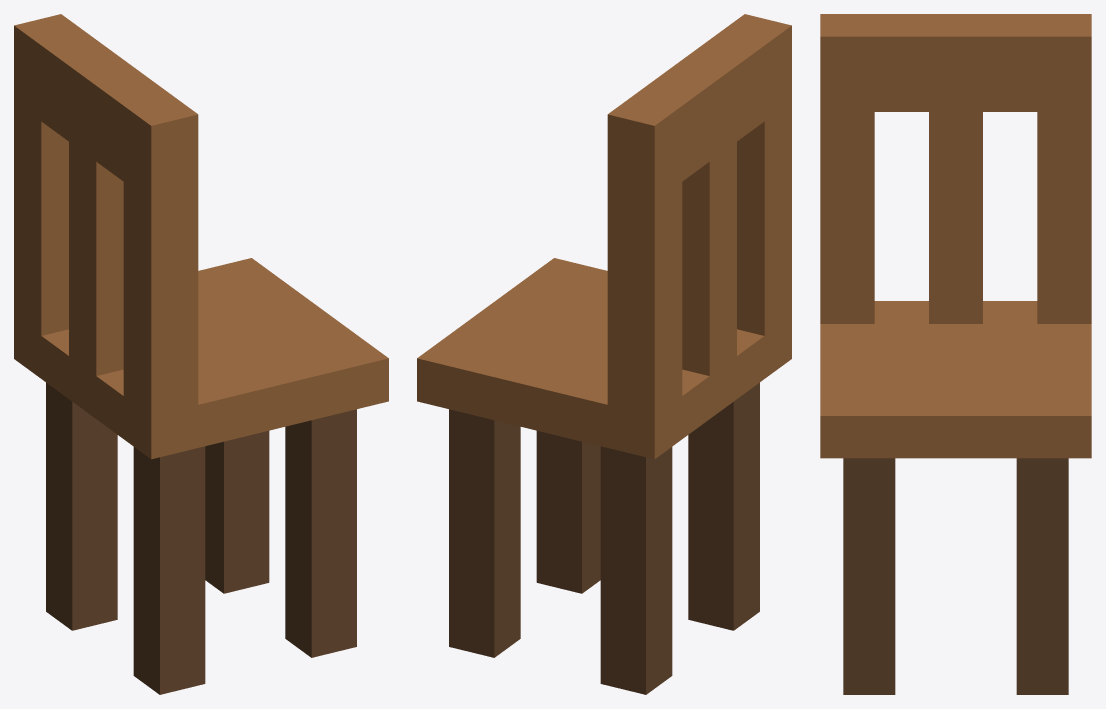
The model's file is chair.fbx.
3 renders of one model, left to right at view 1: azimuth 30°, elevation 25°; view 2: azimuth 150°, elevation 25°; view 3: azimuth 270°, elevation 25°, orthographic.
Visible parts, largest first — view 1: Cube; view 2: Cube; view 3: Cube.
Part boxes in pixels (x1,y1,x2,y2): Cube: [14, 14, 388, 694]; Cube: [417, 14, 791, 694]; Cube: [820, 14, 1091, 694].
Bounding box in the file's own units: 0.6842 × 1.6 × 0.6842.
